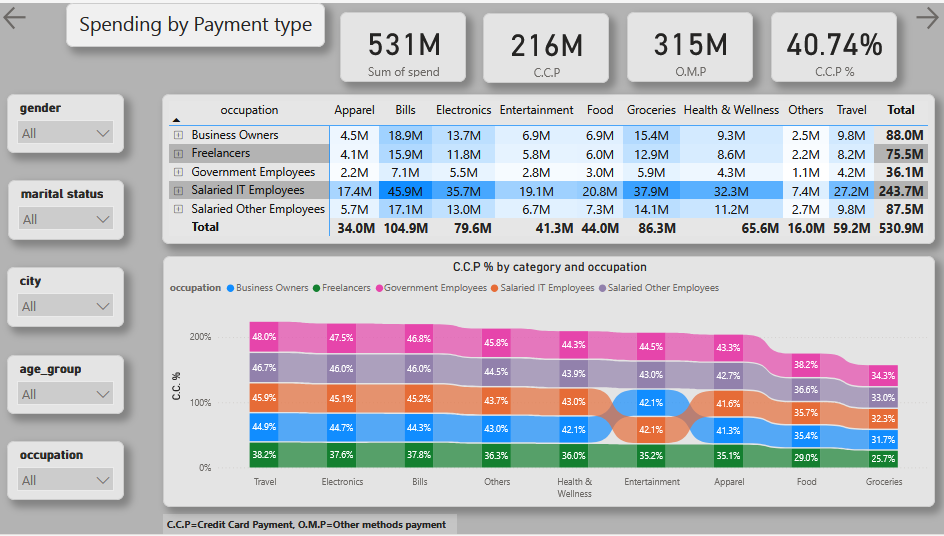

The page's visual inventory and layout, read from the dashboard file:
{"tool":"powerbi","page":{"name":"Spending by CC","canvas":[1280,720],"ordinal":3},"visuals":[{"type":"pivotTable","fields":{"Rows":["dim_customers.occupation","fact_spends.payment_type"],"Columns":["fact_spends.category"],"Values":["Sum(fact_spends.spend)"]},"box":[220.2,123.4,1048,203],"z":0},{"type":"ribbonChart","title":"C.C.P % by category and occupation","fields":{"Category":["fact_spends.category"],"Y":["fact_spends.C.C. %"],"Series":["dim_customers.occupation"]},"box":[221.1,343,1047.4,340.2],"z":1000},{"type":"slicer","fields":{"Values":["dim_customers.age_group"]},"box":[9.8,476.9,158.7,79.4],"z":2000},{"type":"card","fields":{"Values":["Sum(fact_spends.spend)"]},"box":[460.4,11.9,170.2,95.3],"z":3000},{"type":"slicer","fields":{"Values":["dim_customers.marital status"]},"box":[10.5,240.2,157.3,80.8],"z":4000},{"type":"slicer","fields":{"Values":["dim_customers.gender"]},"box":[9.8,123.3,158.7,79.4],"z":5000},{"type":"slicer","fields":{"Values":["dim_customers.city"]},"box":[9.8,358.6,158.7,80.8],"z":6000},{"type":"card","fields":{"Values":["fact_spends.O.M."]},"box":[850.8,11.9,170.2,95.3],"z":7000},{"type":"card","fields":{"Values":["fact_spends.C.C."]},"box":[655.6,13.5,170.2,95.3],"z":8000},{"type":"card","fields":{"Values":["fact_spends.C.C. %"]},"box":[1046,11.9,170.2,95.3],"z":9000},{"type":"textbox","box":[221.1,693.1,398.3,26.9],"z":10000},{"type":"slicer","fields":{"Values":["dim_customers.occupation"]},"box":[9.8,593.9,158.7,79.4],"z":11000},{"type":"actionButton","box":[1237,0,43.7,40.6],"z":12000},{"type":"actionButton","box":[0,0,43.7,40.6],"z":13000},{"type":"textbox","box":[89,0,351.5,60],"z":14000}]}

Visuals, with their boxes in screenshot pixels (x1, y1, x2, y2), scaled from the page's 1280x720 canvas onto the 944x536 screenshot:
pivotTable - dim_customers.occupation x fact_spends.payment_type: (162,92,935,243)
"C.C.P % by category and occupation" ribbonChart: (163,255,936,509)
slicer - dim_customers.age_group: (7,355,124,414)
card - Sum(fact_spends.spend): (340,9,465,80)
slicer - dim_customers.marital status: (8,179,124,239)
slicer - dim_customers.gender: (7,92,124,151)
slicer - dim_customers.city: (7,267,124,327)
card - fact_spends.O.M.: (627,9,753,80)
card - fact_spends.C.C.: (484,10,609,81)
card - fact_spends.C.C. %: (771,9,897,80)
textbox: (163,516,457,535)
slicer - dim_customers.occupation: (7,442,124,501)
actionButton: (912,0,943,30)
actionButton: (0,0,32,30)
textbox: (66,0,325,45)
